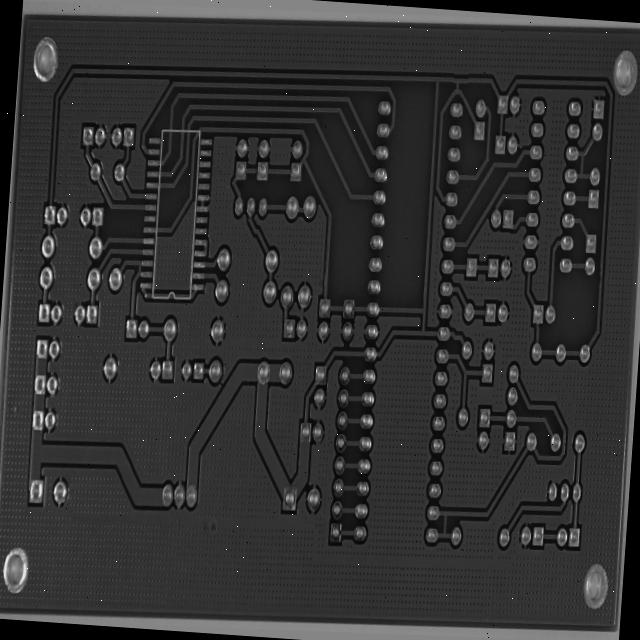short: (575, 144, 596, 191), (451, 67, 469, 96), (131, 250, 143, 274)
